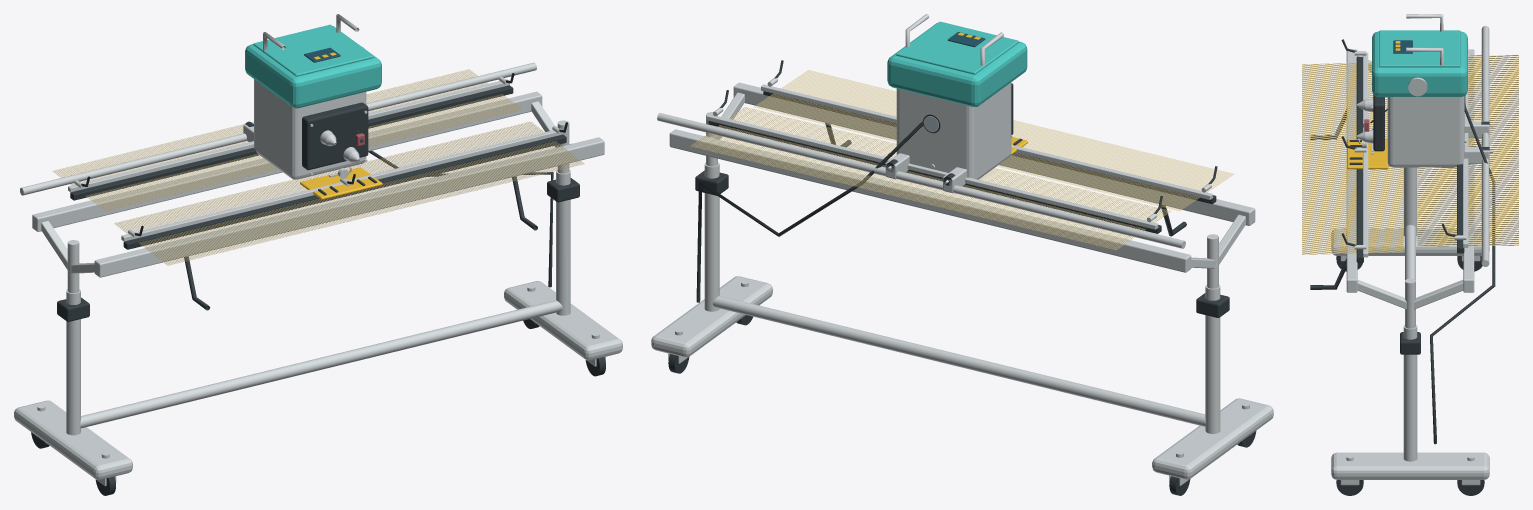
Rendered from warp_tying.glb.
The picture shows the model from 3 angles, left to right: view 1: azimuth 30°, elevation 25°; view 2: azimuth 150°, elevation 25°; view 3: azimuth 270°, elevation 25°; orthographic projection. The views are drawn at different scales.
Parts seen in each view (by area): view 1: TPF_old_warp, TPF_new_warp, TPF_longitudinal_rail, TPF_longitudinal_rail.001, TPF_lower_crossbar, TIEPRO_lower_body, TIEPRO_upper_turquoise, TPF_cast_base, TPF_clamping_lip, TPF_cast_base.001, TPF_traverse_rail, TIEPRO_front_mount (+7 smaller); view 2: TPF_new_warp, TPF_old_warp, TPF_longitudinal_rail.001, TIEPRO_lower_body, TPF_lower_crossbar, TPF_longitudinal_rail, TIEPRO_upper_turquoise, TPF_traverse_rail, TPF_cast_base, TPF_cast_base.001, TIEPRO_roof_lid, TPF_pressure_bar.001 (+6 smaller); view 3: TPF_old_warp, TPF_new_warp, TIEPRO_lower_body, TPF_cast_base.001, TIEPRO_upper_turquoise, TIEPRO_roof_lid, TPF_cast_base, TPF_traverse_rail, TPF_outer_column.001, TPF_longitudinal_rail, TPF_longitudinal_rail.001, TPF_power_cable (+18 smaller).
Boxes of the visible parts, <box> form: TPF_old_warp: <box>114,122,584,265</box>; TPF_new_warp: <box>52,69,522,211</box>; TPF_longitudinal_rail: <box>94,137,604,277</box>; TPF_longitudinal_rail.001: <box>32,91,542,231</box>; TPF_lower_crossbar: <box>80,300,562,428</box>; TIEPRO_lower_body: <box>254,79,366,179</box>; TIEPRO_upper_turquoise: <box>245,26,381,108</box>; TPF_cast_base: <box>14,400,132,479</box>; TPF_clamping_lip: <box>123,134,566,249</box>; TPF_cast_base.001: <box>504,281,622,360</box>; TPF_traverse_rail: <box>20,62,536,195</box>; TIEPRO_front_mount: <box>302,102,368,170</box>; TPF_new_warp: <box>690,107,1170,249</box>; TPF_old_warp: <box>753,70,1234,211</box>; TPF_longitudinal_rail.001: <box>669,129,1191,272</box>; TIEPRO_lower_body: <box>896,82,1011,179</box>; TPF_lower_crossbar: <box>712,296,1205,426</box>; TPF_longitudinal_rail: <box>733,82,1255,225</box>; TIEPRO_upper_turquoise: <box>887,23,1027,106</box>; TPF_traverse_rail: <box>657,113,1185,248</box>; TPF_cast_base: <box>1152,398,1273,479</box>; TPF_cast_base.001: <box>651,276,772,357</box>; TIEPRO_roof_lid: <box>895,21,1018,74</box>; TPF_pressure_bar.001: <box>706,114,1158,229</box>; TPF_old_warp: <box>1302,62,1403,254</box>; TPF_new_warp: <box>1417,55,1518,246</box>; TIEPRO_lower_body: <box>1387,96,1464,167</box>; TPF_cast_base.001: <box>1331,452,1489,479</box>; TIEPRO_upper_turquoise: <box>1372,31,1467,96</box>; TIEPRO_roof_lid: <box>1379,30,1460,67</box>; TPF_cast_base: <box>1331,228,1489,255</box>; TPF_traverse_rail: <box>1481,26,1489,266</box>; TPF_outer_column.001: <box>1403,325,1417,461</box>; TPF_longitudinal_rail: <box>1346,49,1357,292</box>; TPF_longitudinal_rail.001: <box>1463,49,1474,292</box>; TPF_power_cable: <box>1430,105,1495,444</box>.
Bounding box in the file's own units: 2.74 × 1.86 × 1.04.
